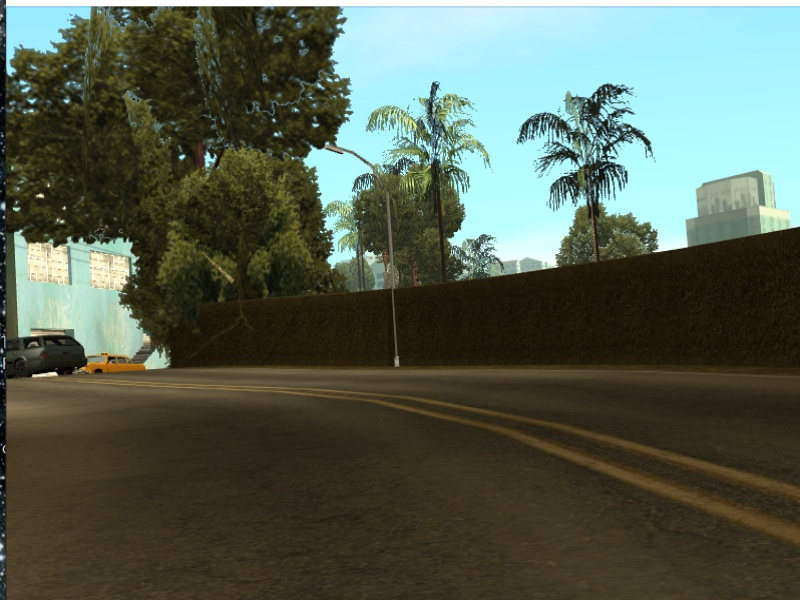pole: (384, 183, 408, 366)
vehicle: (6, 337, 89, 382), (89, 353, 145, 378)
